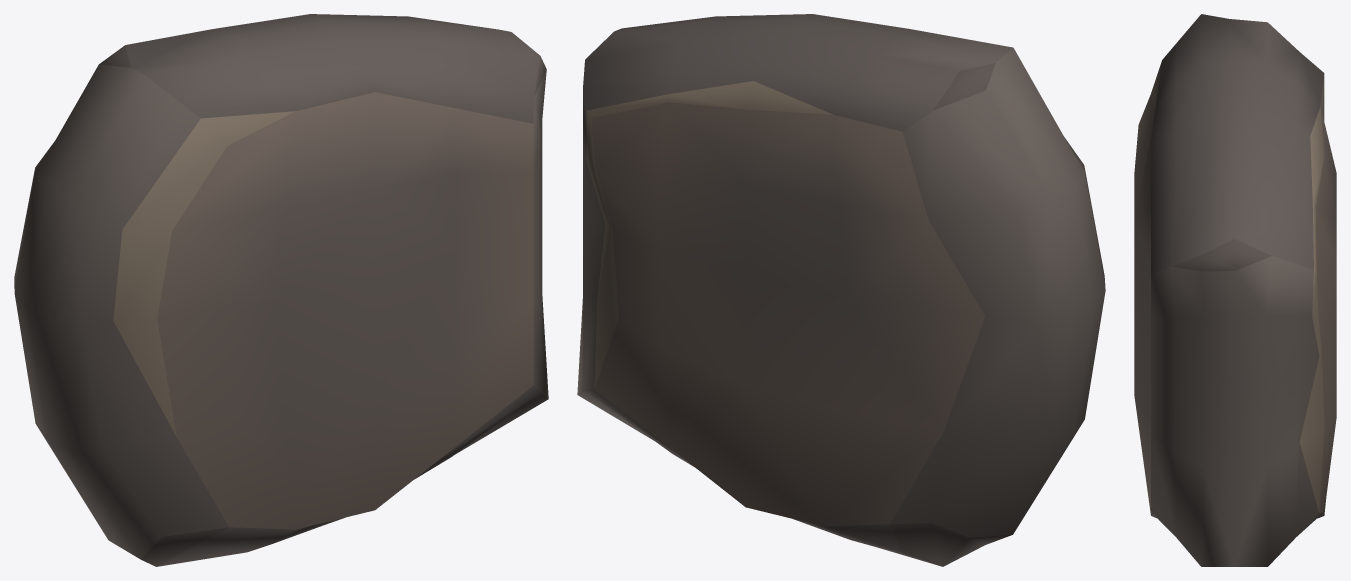
File: RockSmall.002.glb
3 views of the same model, side by side, from view 1: azimuth 30°, elevation 25°; view 2: azimuth 150°, elevation 25°; view 3: azimuth 270°, elevation 25° (orthographic). The views are drawn at different scales.
Parts seen in each view (by area): view 1: RockSmall.002; view 2: RockSmall.002; view 3: RockSmall.002.
Boxes of the visible parts, x1,y1,x2,y2 form: RockSmall.002: [14, 14, 548, 566]; RockSmall.002: [577, 14, 1105, 566]; RockSmall.002: [1134, 14, 1336, 566].
Bounding box in the file's own units: 189 × 182 × 73.5.
